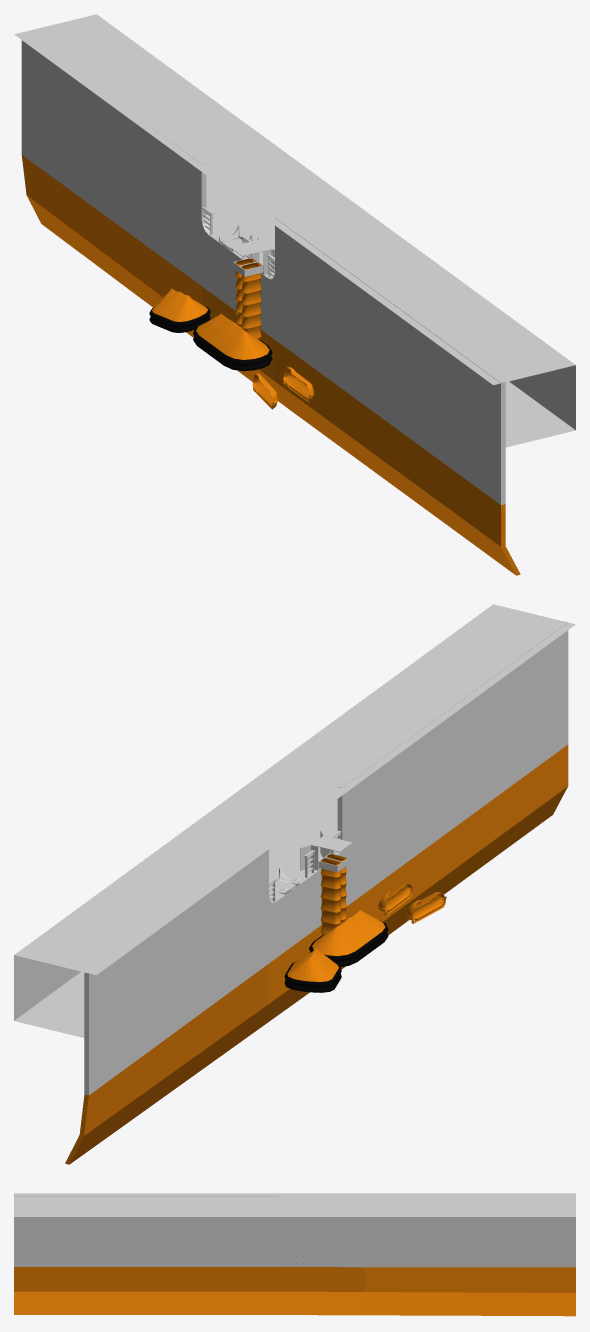
3 renders of one model, top to bottom at view 1: azimuth 30°, elevation 25°; view 2: azimuth 150°, elevation 25°; view 3: azimuth 270°, elevation 25°, orthographic. The views are drawn at different scales.
Visible parts, largest first — view 1: Ship 2.001, Liferaft - 2, Liferaft - 2.001, Cube.001; view 2: Ship 2.001, Liferaft - 2, Liferaft - 2.001, Cube.001, Liferaft - ship.001; view 3: Ship 2.001, Ship 2.003.
Part boxes in pixels (bbox=[...]): Ship 2.001: bbox=[14, 14, 575, 575]; Liferaft - 2: bbox=[193, 313, 272, 371]; Liferaft - 2.001: bbox=[149, 288, 210, 332]; Cube.001: bbox=[235, 258, 261, 339]; Ship 2.001: bbox=[14, 604, 575, 1164]; Liferaft - 2: bbox=[309, 910, 388, 966]; Liferaft - 2.001: bbox=[284, 948, 341, 992]; Cube.001: bbox=[320, 854, 346, 935]; Liferaft - ship.001: bbox=[406, 891, 446, 923]; Ship 2.001: bbox=[14, 1193, 575, 1316]; Ship 2.003: bbox=[279, 1233, 302, 1255].
Size of what is drawn, in the model's own units: 11.85 by 16.75 by 74.07.
